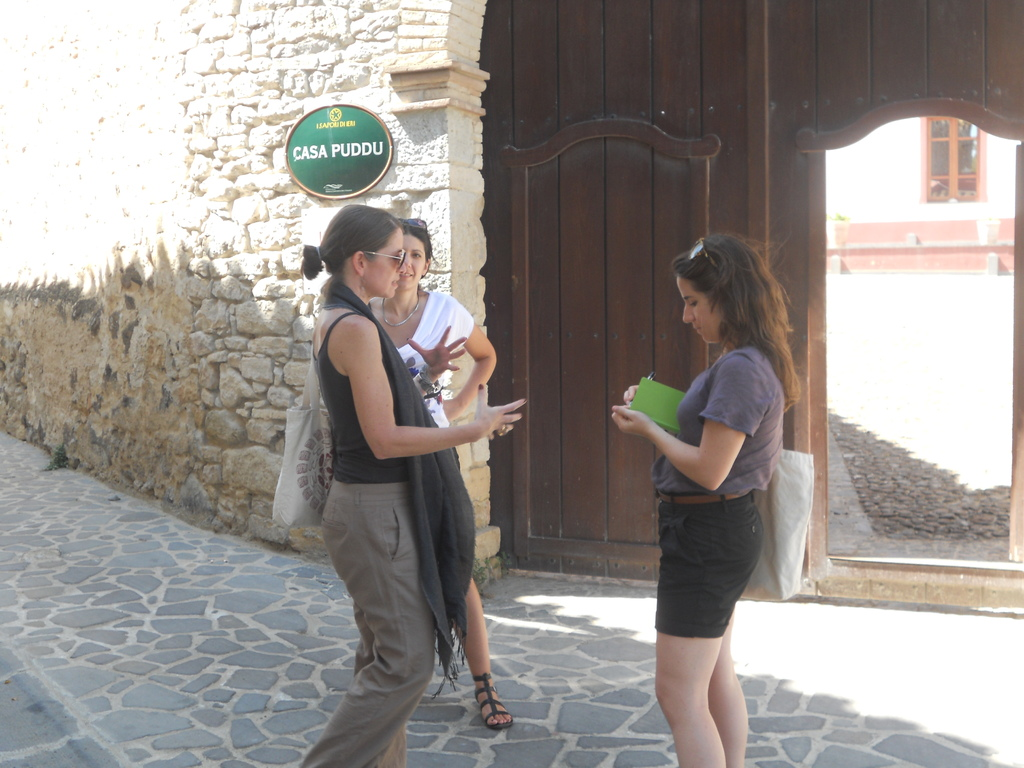Footwear: (472, 675, 516, 730)
